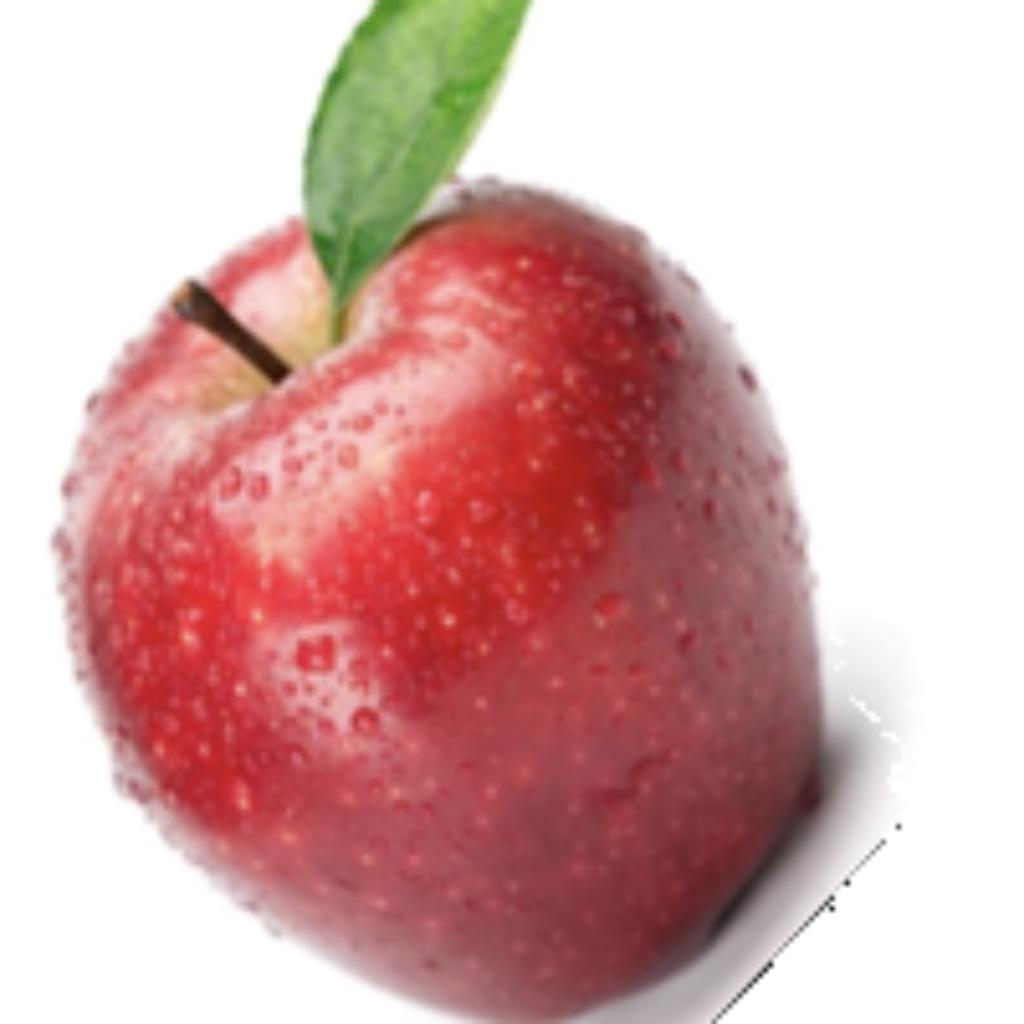apple: (41, 0, 916, 1019)
